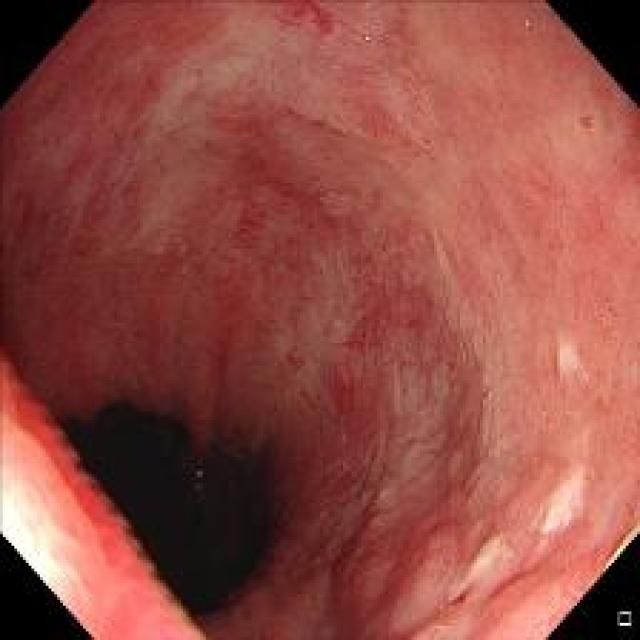color misalignment: (9, 365, 196, 631)
contrast: (52, 368, 312, 616)
saturation: (2, 499, 60, 592)
